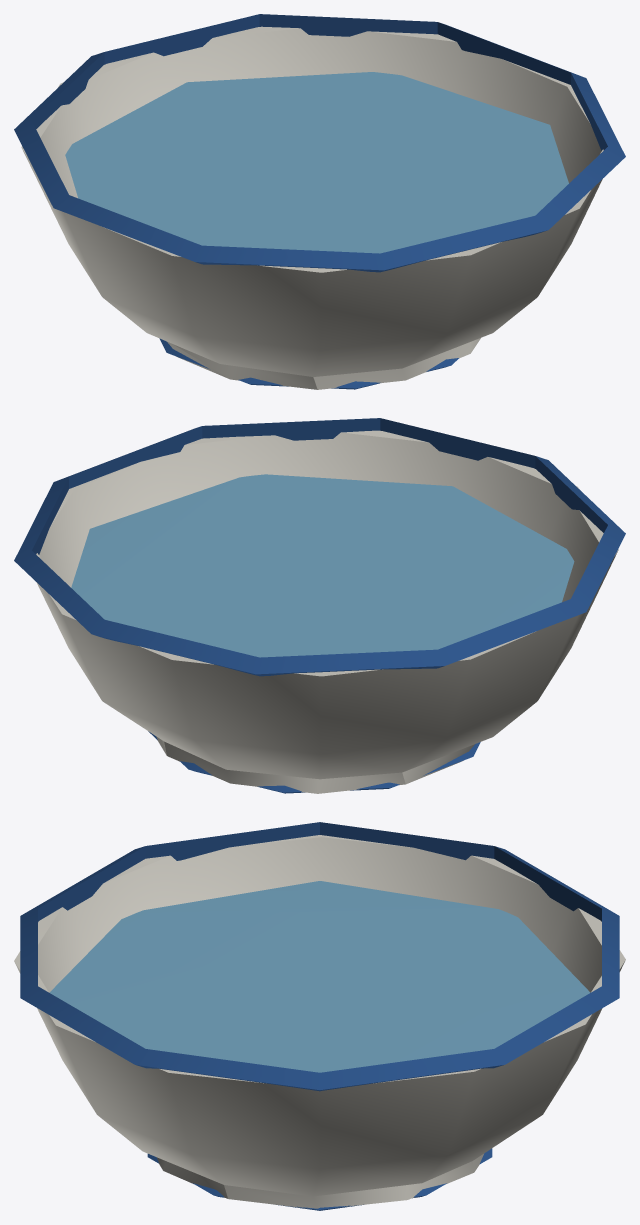
The model's file is chen_nuoc.glb.
3 renders of one model, top to bottom at view 1: azimuth 30°, elevation 25°; view 2: azimuth 150°, elevation 25°; view 3: azimuth 270°, elevation 25°, orthographic. The views are drawn at different scales.
Parts seen in each view (by area): view 1: chen_nuoc; view 2: chen_nuoc; view 3: chen_nuoc.
Boxes of the visible parts, x1=… form: chen_nuoc: x1=14, y1=14, x2=625, y2=389; chen_nuoc: x1=14, y1=418, x2=625, y2=793; chen_nuoc: x1=14, y1=822, x2=625, y2=1210.
Bounding box in the file's own units: 0.2154 × 0.0726 × 0.2092.
